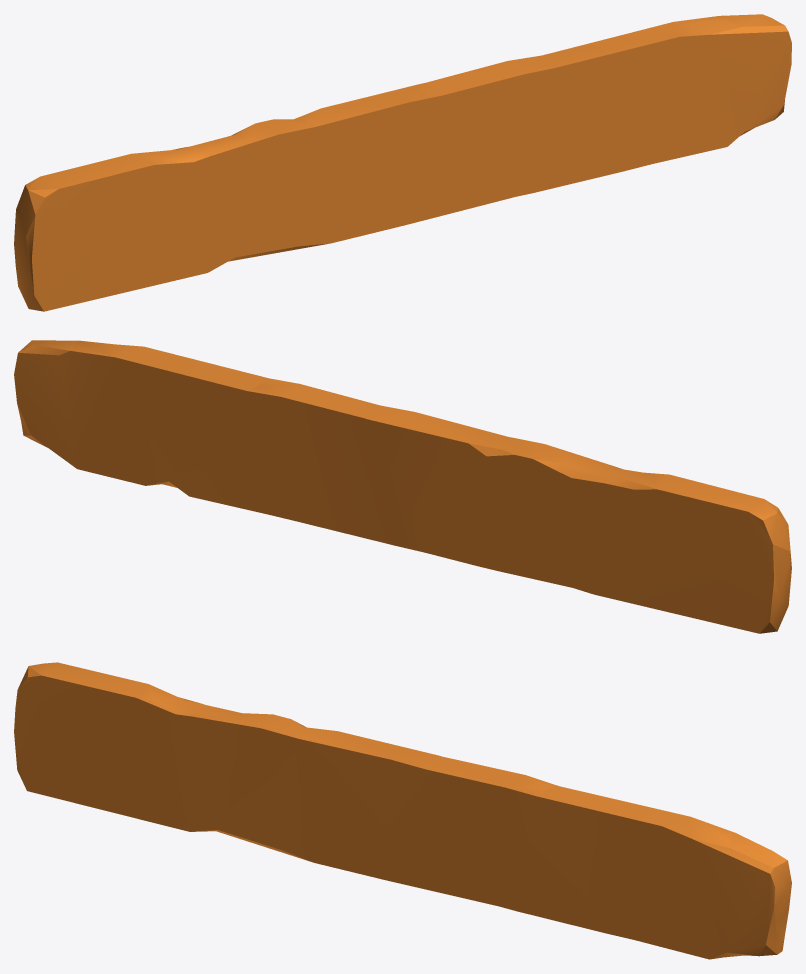
File: SM_board001.fbx
3 views of the same model, one above another, from view 1: azimuth 30°, elevation 25°; view 2: azimuth 150°, elevation 25°; view 3: azimuth 330°, elevation 25° (orthographic).
Parts seen in each view (by area): view 1: wood1_low.001; view 2: wood1_low.001; view 3: wood1_low.001.
Part boxes in pixels (box(x1,y1,x2,y2)): wood1_low.001: box(14, 14, 791, 311); wood1_low.001: box(14, 340, 791, 633); wood1_low.001: box(14, 662, 791, 959).
Size of the model in its own units: 196 by 30 by 8.
